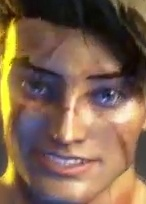kevin: (8, 25, 143, 199)
